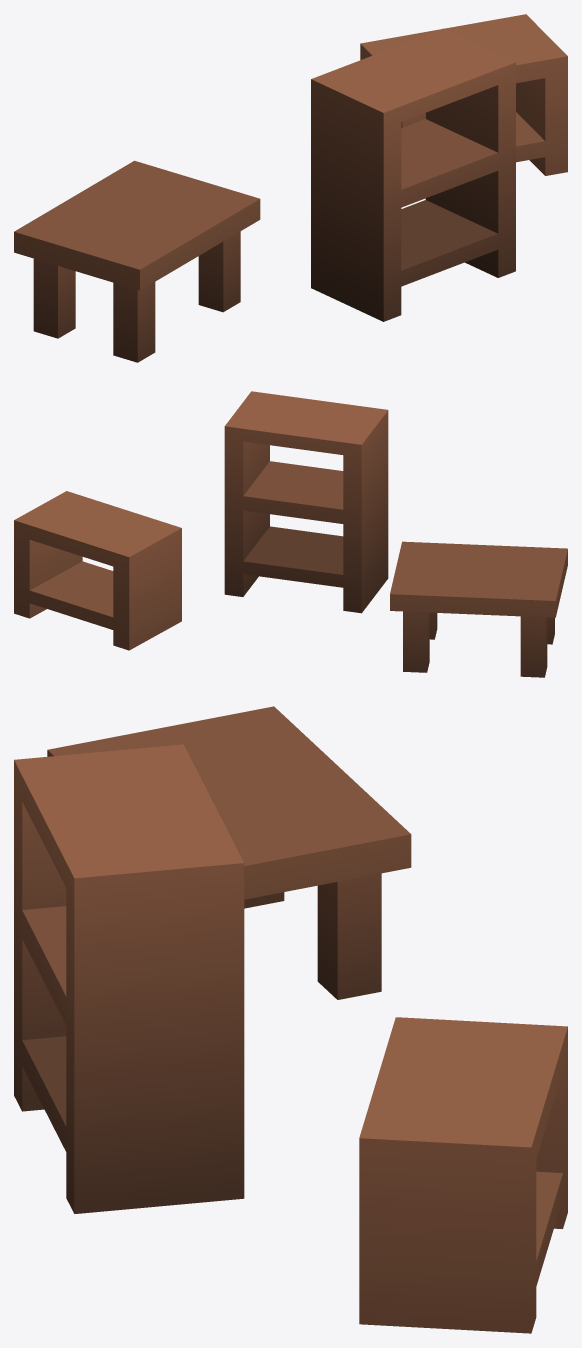
Rendered from furnitures.fbx.
The picture shows the model from 3 angles, top to bottom: view 1: azimuth 30°, elevation 25°; view 2: azimuth 150°, elevation 25°; view 3: azimuth 270°, elevation 25°; orthographic projection. The views are drawn at different scales.
Visible parts, largest first — view 1: furnitures; view 2: furnitures; view 3: furnitures.
Part boxes in pixels (x1=…): furnitures: x1=14, y1=14, x2=567, y2=362; furnitures: x1=14, y1=391, x2=567, y2=677; furnitures: x1=14, y1=706, x2=567, y2=1333.
Bounding box in the file's own units: 468 × 158 × 236.
1 material, 1 textured.
